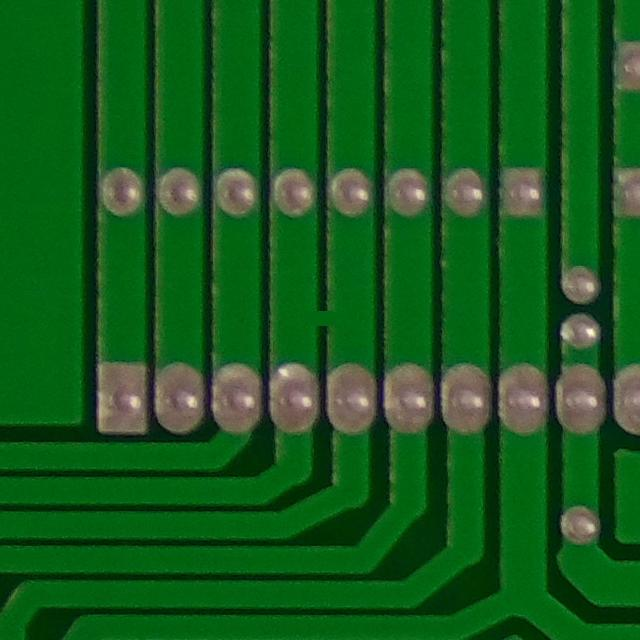short: (273, 278, 368, 362)
